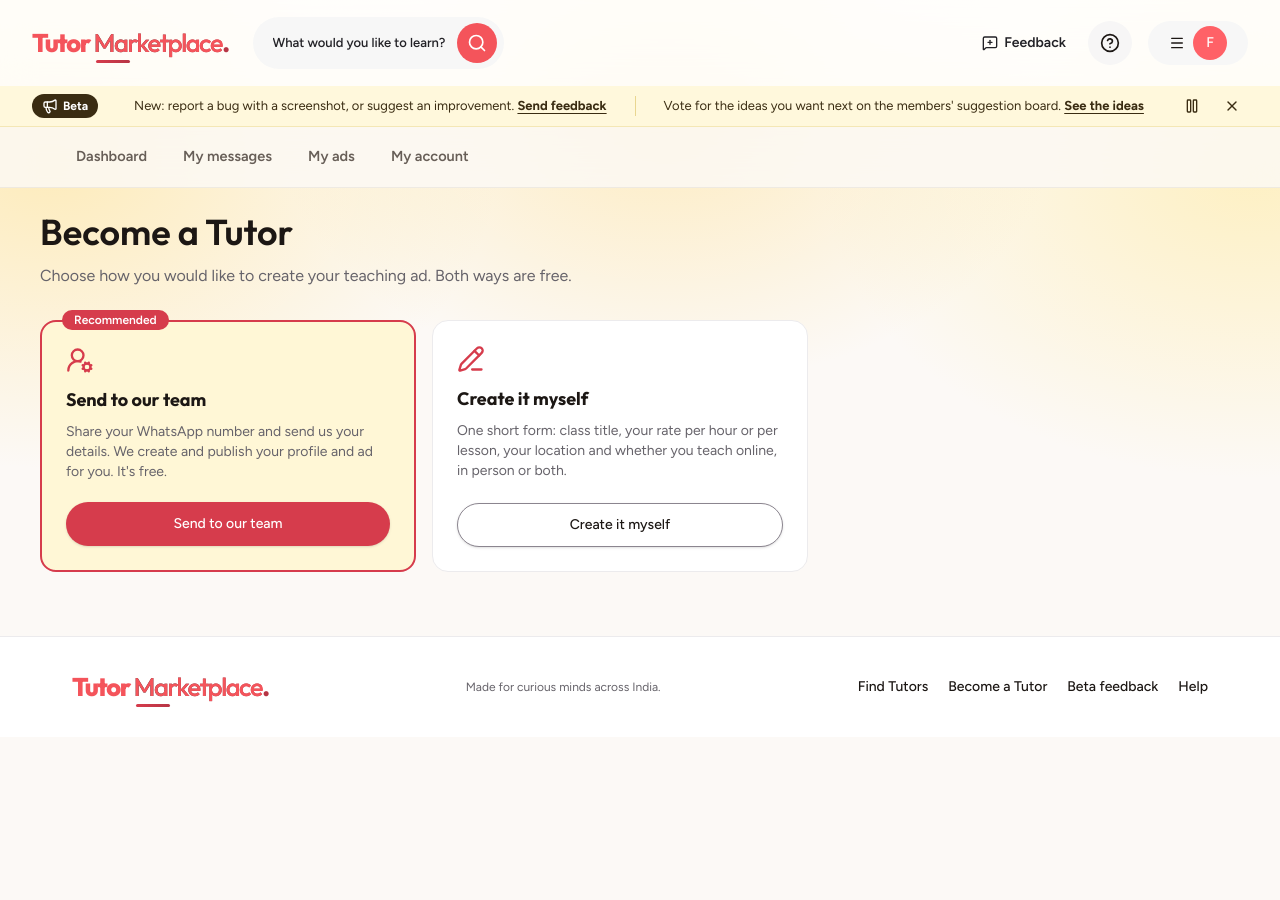
it: a new Tutor chooses between our team (recommended) and creating the ad themselves
The image size is (1280, 900).
Expected: the heading "Become a Tutor" is shown, [40, 209, 293, 254]
Expected: the element "Send to our team" shows "Recommended", [74, 313, 157, 327]
Click the button "Send to our team". click: click(228, 524)
box: [66, 502, 390, 546]
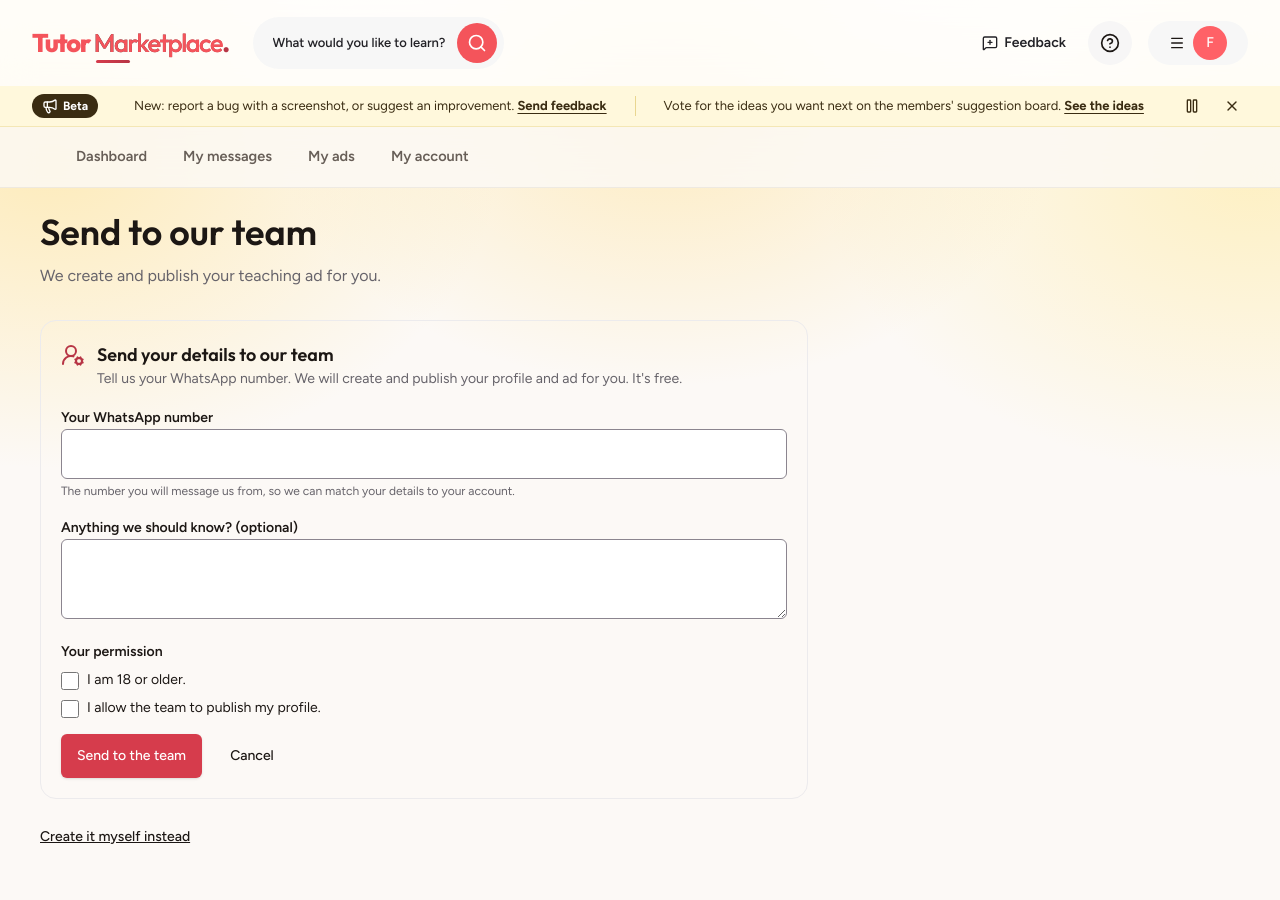
Expected: the field labelled "Your WhatsApp number" is shown, [61, 429, 787, 479]
Expected: the heading "Send your details to our team" is shown, [97, 343, 334, 366]
Click the button "Create it myself instead". click: click(115, 837)
box: [40, 815, 190, 859]
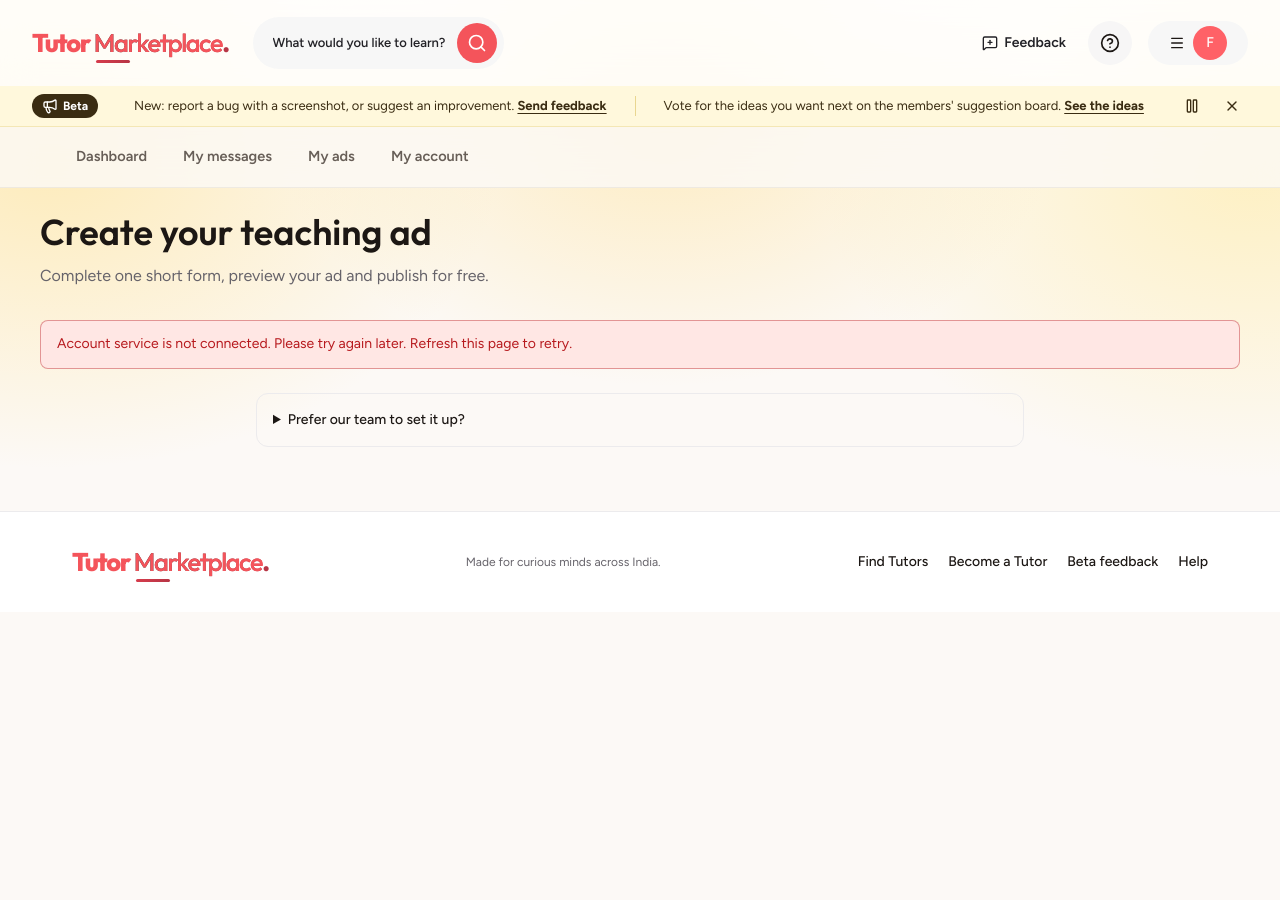
Expected: the heading "Create your teaching ad" is shown, [40, 209, 432, 254]
